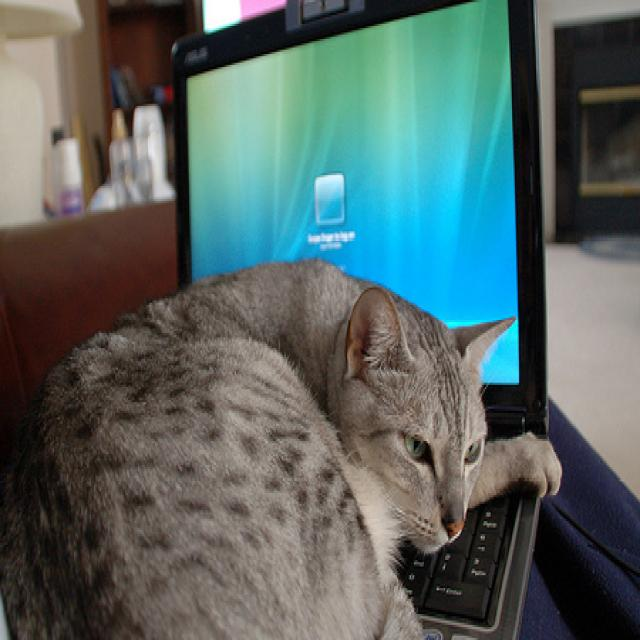Egyptian Mau: (0, 248, 566, 640)
